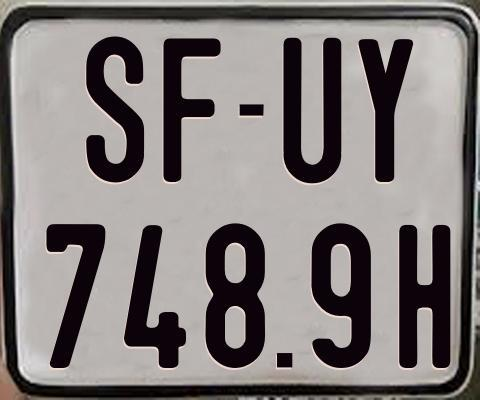4: (124, 223, 186, 368)
7: (46, 224, 112, 370)
8: (202, 221, 266, 366)
9: (310, 222, 375, 369)
F: (160, 38, 223, 183)
H: (396, 223, 452, 370)
S: (83, 33, 142, 181)
U: (281, 36, 342, 182)
Y: (357, 36, 416, 179)
